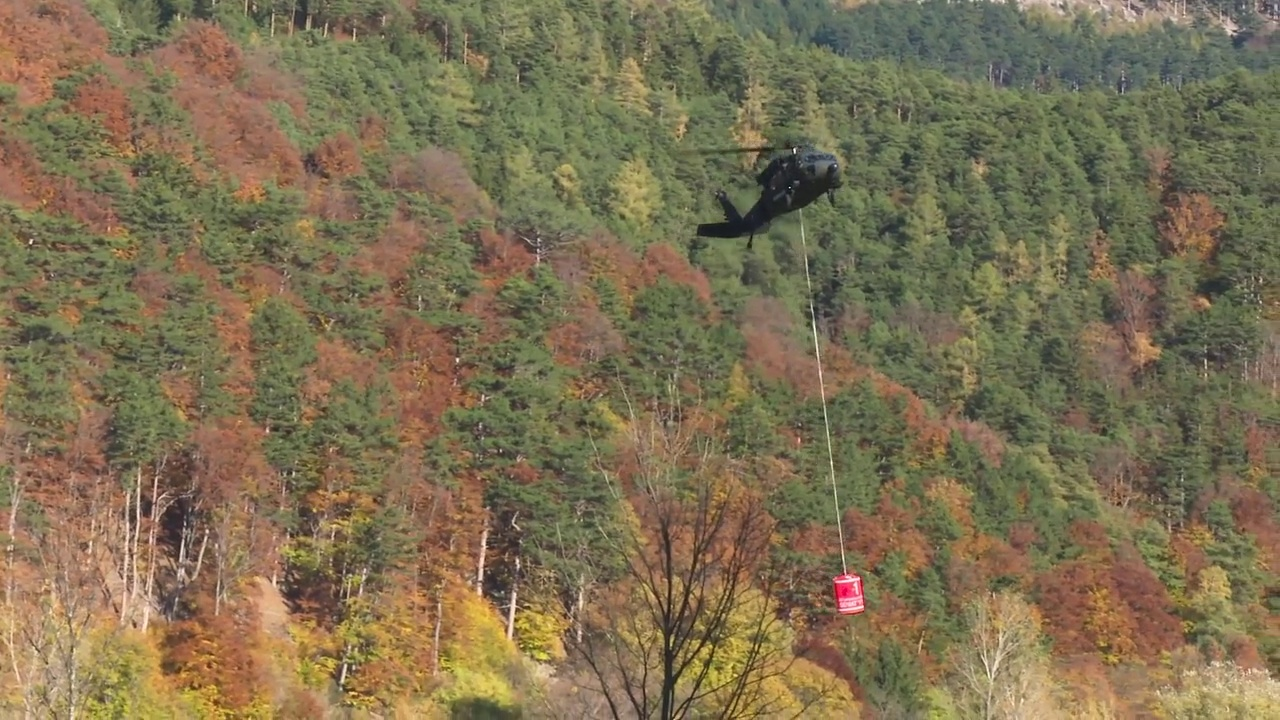heli: (694, 143, 843, 250)
